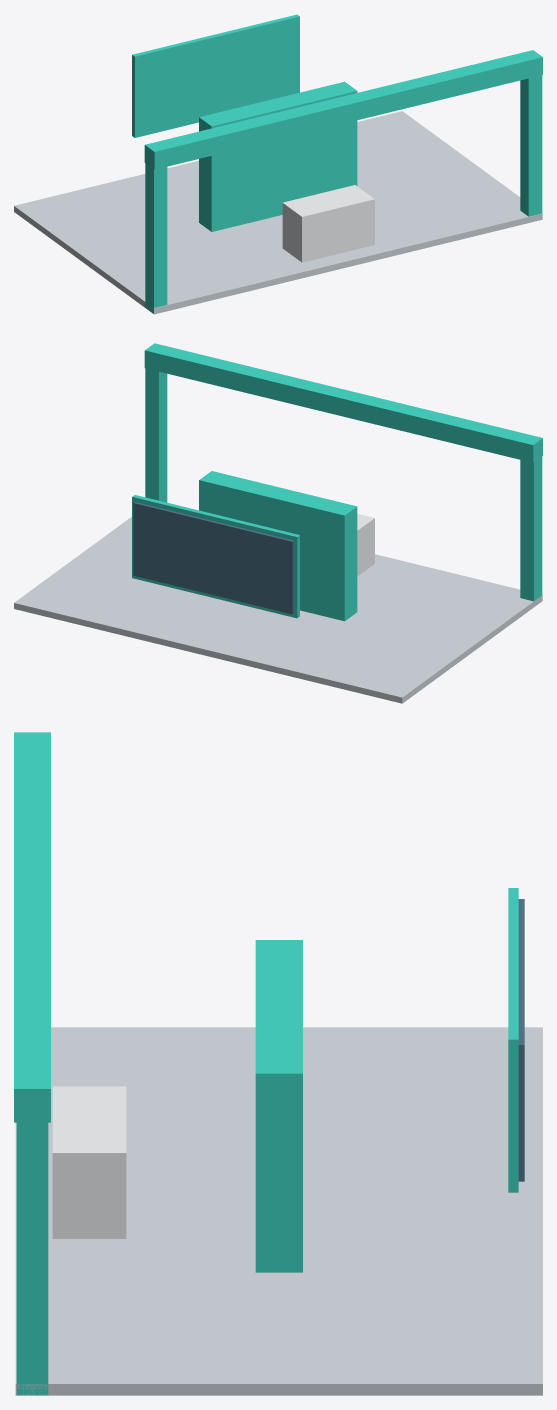
3 views of the same model, one above another, from view 1: azimuth 30°, elevation 25°; view 2: azimuth 150°, elevation 25°; view 3: azimuth 270°, elevation 25° (orthographic). The views are drawn at different scales.
Parts seen in each view (by area): view 1: Exhibition Booth Concept; view 2: Exhibition Booth Concept; view 3: Exhibition Booth Concept.
Part boxes in pixels (x1,y1,x2,y2): Exhibition Booth Concept: (14,14,542,314); Exhibition Booth Concept: (14,343,542,703); Exhibition Booth Concept: (14,732,542,1395).
Size of the model in its own units: 8 by 3.2 by 5.02.
